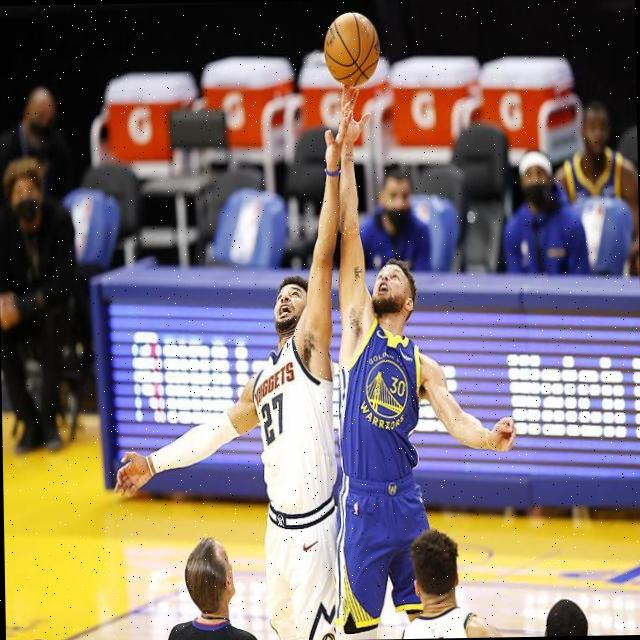ball: (322, 8, 382, 90)
